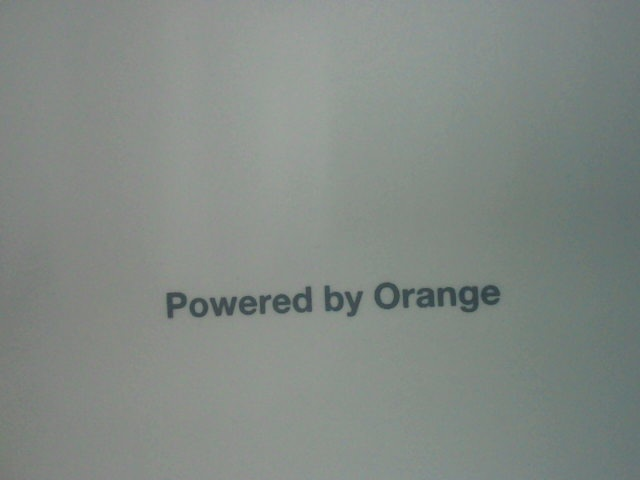AS_PowerByOrange: (138, 266, 513, 333)
